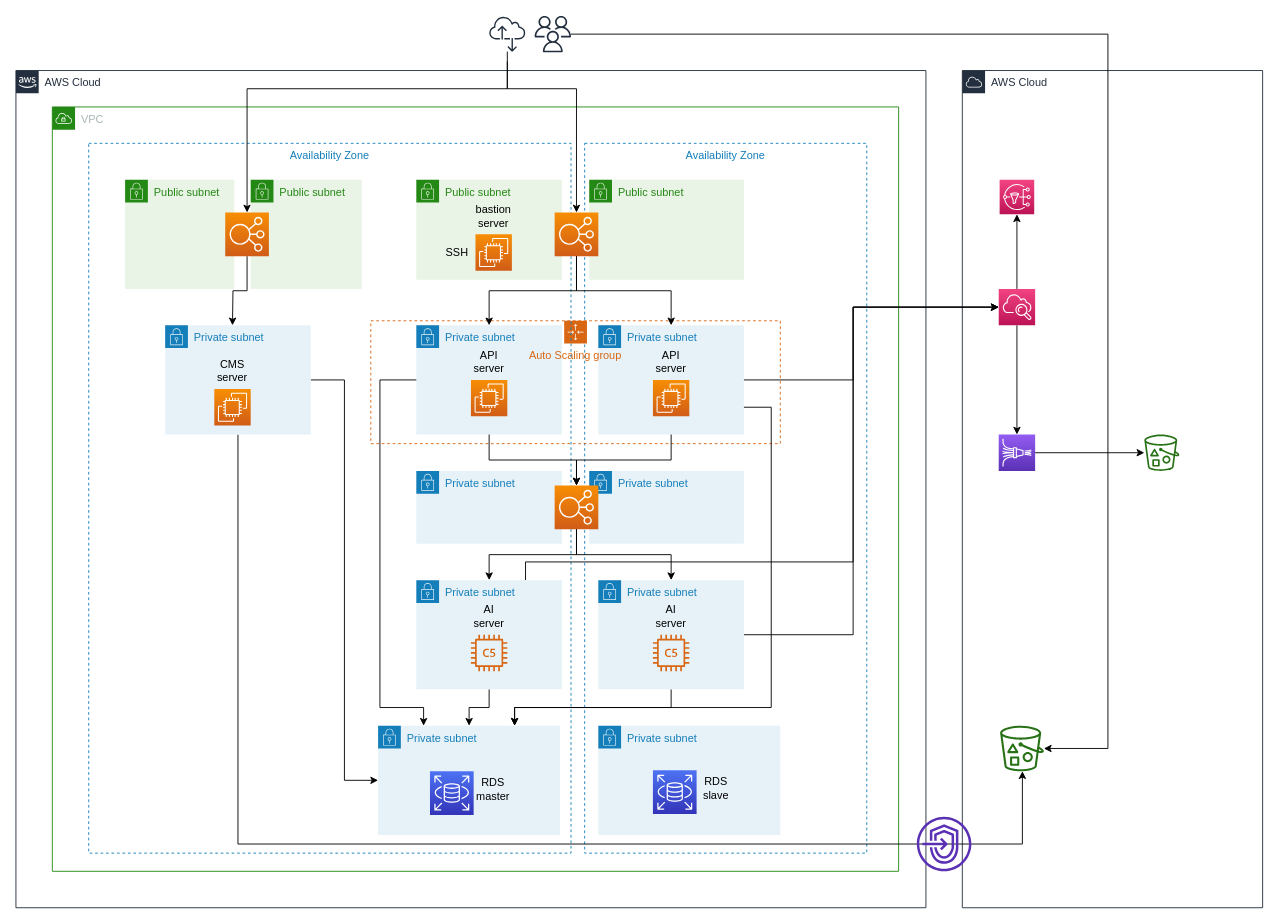
Some shapes in this 1279 by 924 pixel diagram are drawn without their labels. Each missing label, with the centre of its shape:
"Amazon CloudWatch" goes at point 1016,306.
"Amazon Kinesis Data Firehose" goes at point 1016,452.
"Amazon Simple Notification Service" goes at point 1016,196.
"Bucket" goes at point 1021,748.
"Log Bucket" goes at point 1161,452.
